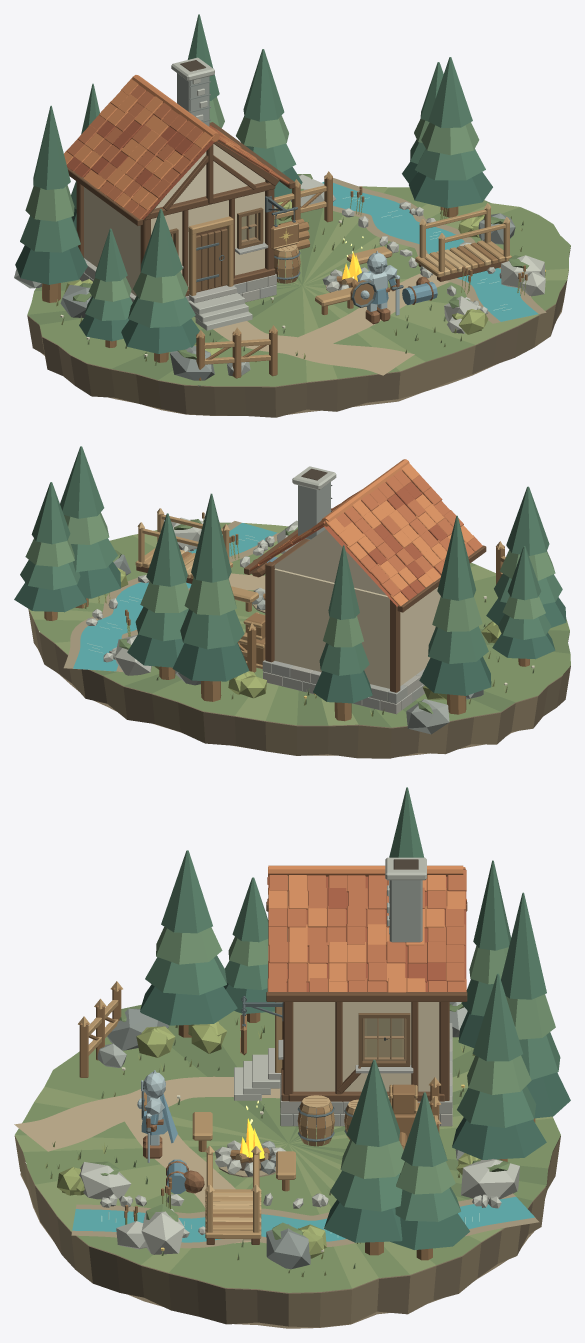
The model's file is wayfarers-rest.glb.
3 renders of one model, top to bottom at view 1: azimuth 30°, elevation 25°; view 2: azimuth 150°, elevation 25°; view 3: azimuth 270°, elevation 25°, orthographic. The views are drawn at different scales.
Parts seen in each view (by area): view 1: Triangulated mossy clearing, Exposed earthen diorama edge, Warm limewashed walls, Jade creek, Worn ochre approach, Limewash gable, Layered faceted pine crown.016, Layered faceted pine crown, Track toward bridge, Layered faceted pine crown.028, Pale creek banks, Layered faceted pine crown.003 (+32 smaller); view 2: Triangulated mossy clearing, Exposed earthen diorama edge, Warm limewashed walls, Jade creek, Limewash gable.001, Layered faceted pine crown.008, Layered faceted pine crown, Layered faceted pine crown.011, Layered faceted pine crown.009, Layered faceted pine crown.003, Layered faceted pine crown.019, Layered faceted pine crown.001 (+40 smaller); view 3: Triangulated mossy clearing, Exposed earthen diorama edge, Warm limewashed walls, Worn ochre approach, Jade creek, Layered faceted pine crown.012, Layered faceted pine crown.011, Layered faceted pine crown.028, Layered faceted pine crown.019, Layered faceted pine crown.015, Layered faceted pine crown.013, Layered faceted pine crown.031 (+45 smaller).
Boxes of the visible parts, box(x1,y1,x2,y2) form: Triangulated mossy clearing: box(27, 186, 570, 386); Exposed earthen diorama edge: box(27, 246, 570, 417); Warm limewashed walls: box(84, 187, 264, 296); Jade creek: box(322, 182, 538, 321); Worn ochre approach: box(213, 321, 414, 375); Limewash gable: box(155, 144, 265, 208); Layered faceted pine crown.016: box(409, 172, 492, 208); Layered faceted pine crown: box(15, 245, 87, 284); Track toward bridge: box(290, 273, 449, 351); Layered faceted pine crown.028: box(121, 318, 199, 353); Pale creek banks: box(323, 178, 546, 323); Layered faceted pine crown.003: box(33, 105, 70, 189); Triangulated mossy clearing: box(29, 522, 570, 727); Exposed earthen diorama edge: box(28, 609, 570, 758); Warm limewashed walls: box(274, 568, 440, 688); Jade creek: box(73, 523, 277, 671); Limewash gable.001: box(274, 529, 386, 595); Layered faceted pine crown.008: box(172, 642, 249, 681); Layered faceted pine crown: box(419, 656, 491, 695); Layered faceted pine crown.011: box(191, 493, 231, 582); Layered faceted pine crown.009: box(180, 609, 244, 649); Layered faceted pine crown.003: box(437, 515, 475, 600); Layered faceted pine crown.019: box(60, 446, 104, 518); Layered faceted pine crown.001: box(428, 626, 488, 664); Triangulated mossy clearing: box(15, 1011, 560, 1292); Exposed earthen diorama edge: box(14, 1136, 560, 1327); Warm limewashed walls: box(293, 1002, 439, 1091); Worn ochre approach: box(14, 1076, 280, 1151); Jade creek: box(72, 1196, 534, 1242); Layered faceted pine crown.012: box(452, 1117, 546, 1159); Layered faceted pine crown.011: box(501, 892, 546, 999); Layered faceted pine crown.028: box(140, 984, 237, 1025); Layered faceted pine crown.019: box(346, 1059, 399, 1146); Layered faceted pine crown.015: box(472, 973, 522, 1061); Layered faceted pine crown.013: box(457, 1086, 536, 1127); Layered faceted pine crown.031: box(161, 850, 212, 933).
Bounding box in the file's own units: 13.89 × 6.33 × 11.03.
